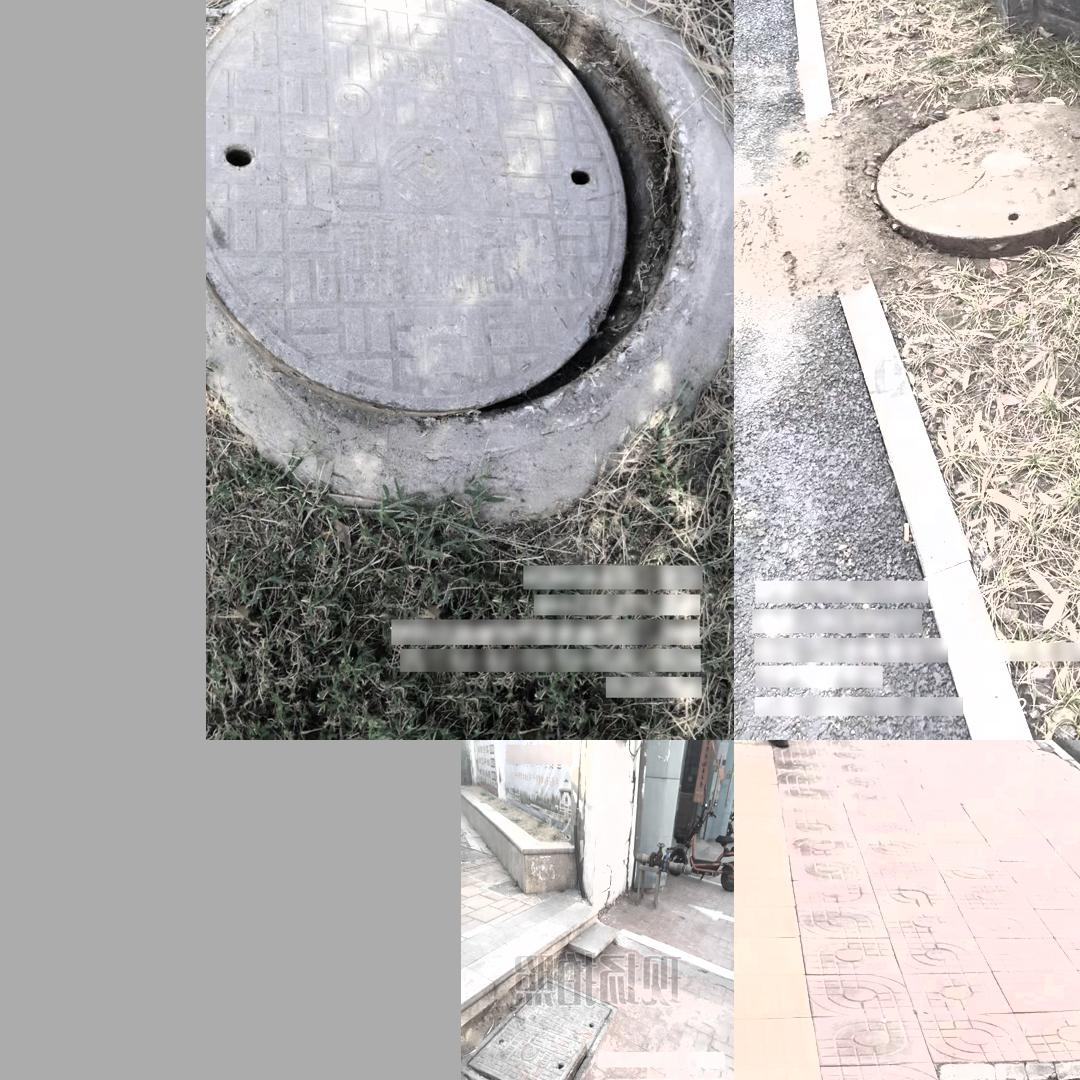uncovered: (207, 0, 697, 445), (874, 102, 1080, 262), (461, 977, 618, 1080), (971, 1050, 1080, 1080)
